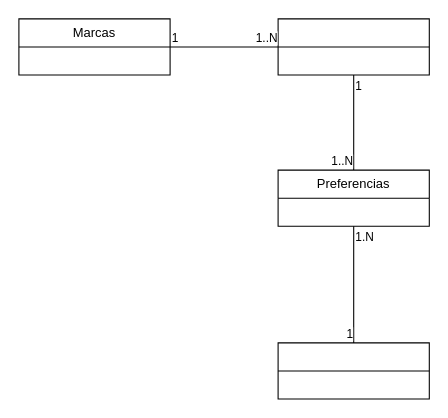
Image size: 448x418. Some labels were removed from this diagram. The centre of each missing label's shape, as x and y in pixels:
"Carros" goes at [353,46].
"Usuario" goes at [353,370].
